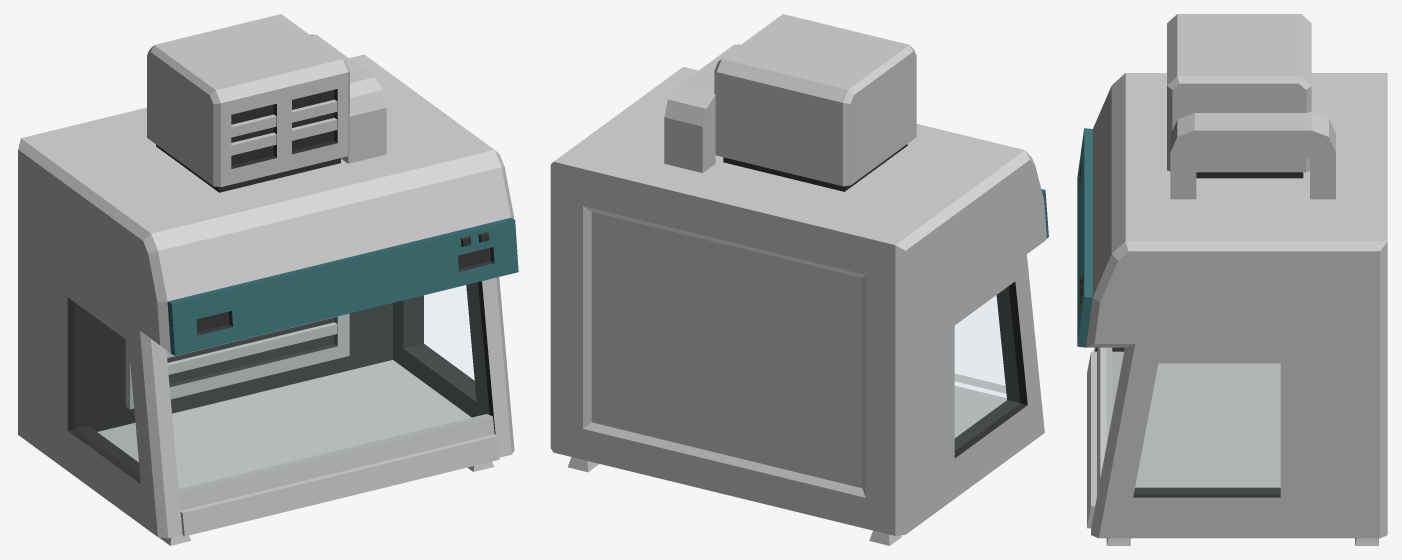
File: laminar-flow-hood-d730bd.glb
3 views of the same model, side by side, from view 1: azimuth 30°, elevation 25°; view 2: azimuth 150°, elevation 25°; view 3: azimuth 270°, elevation 25° (orthographic).
Visible parts, largest first — view 1: laminar-flow-hood, sash; view 2: laminar-flow-hood; view 3: laminar-flow-hood, sash.
Part boxes in pixels (x1,y1,x2,y2): laminar-flow-hood: [18, 14, 518, 545]; sash: [167, 283, 494, 510]; laminar-flow-hood: [550, 14, 1048, 545]; laminar-flow-hood: [1077, 14, 1387, 545]; sash: [1097, 347, 1123, 495].
Bounding box in the file's own units: 1.2 × 1.32 × 0.8998.
